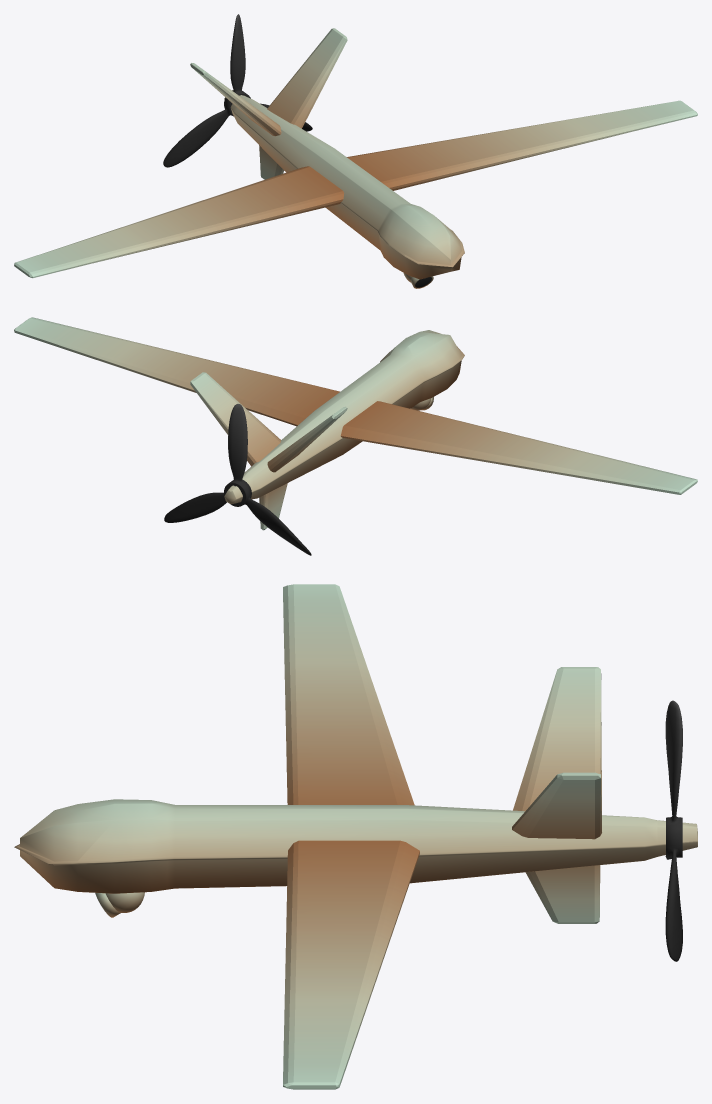
Rendered from UAV.glb.
3 renders of one model, top to bottom at view 1: azimuth 30°, elevation 25°; view 2: azimuth 150°, elevation 25°; view 3: azimuth 270°, elevation 25°, orthographic. The views are drawn at different scales.
Parts seen in each view (by area): view 1: wing, fuselage, tail, propeller, tail_bottom; view 2: wing, fuselage, propeller, tail, tail_bottom; view 3: wing, fuselage, tail, propeller, tail_bottom, cam.
Boxes of the visible parts, x1,y1,x2,y2 form: wing: (14,100,697,278); fuselage: (224,90,464,279); tail: (190,28,347,136); propeller: (163,14,312,167); tail_bottom: (259,145,284,179); wing: (14,317,697,494); fuselage: (224,330,464,503); propeller: (164,404,311,555); tail: (190,372,347,472); tail_bottom: (259,483,287,530); wing: (283,584,419,1089); fuselage: (14,799,697,893); tail: (512,667,601,839); propeller: (665,700,682,961); tail_bottom: (525,865,600,923); cam: (95,892,144,917).
Size of the model in its own units: 2.04 by 0.4221 by 1.18.
1 material, 1 textured.
